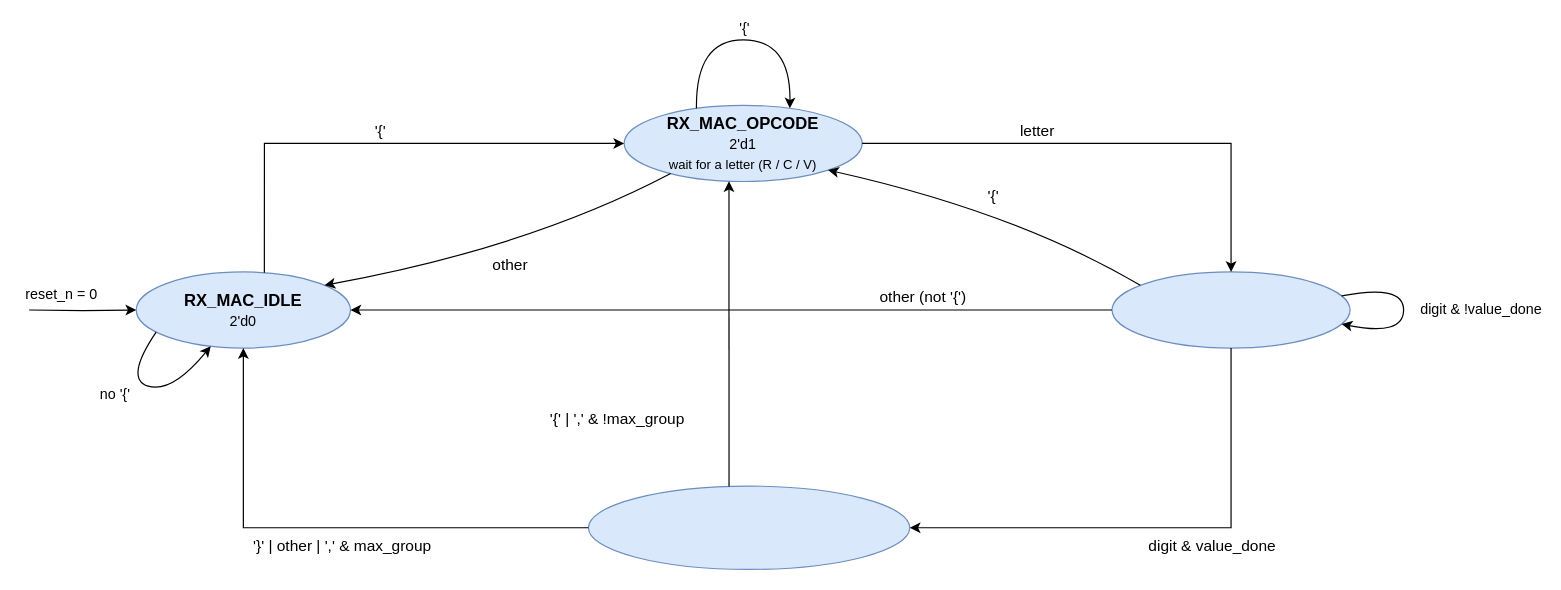
The diagram is 1561 pixels wide and 590 high, and some of its shapes have lost their labels. The shapes that lost their labels are listed below. From the top down, each one's centre as x and y in pixels, then its label:
pixel 1230 309: RX_MAC_VALUE 2'd2 value_cnt counts 3 digits
pixel 748 527: RX_MAC_DONE_NEXT 2'd3 ',' → next group, '}' → pkt_valid
